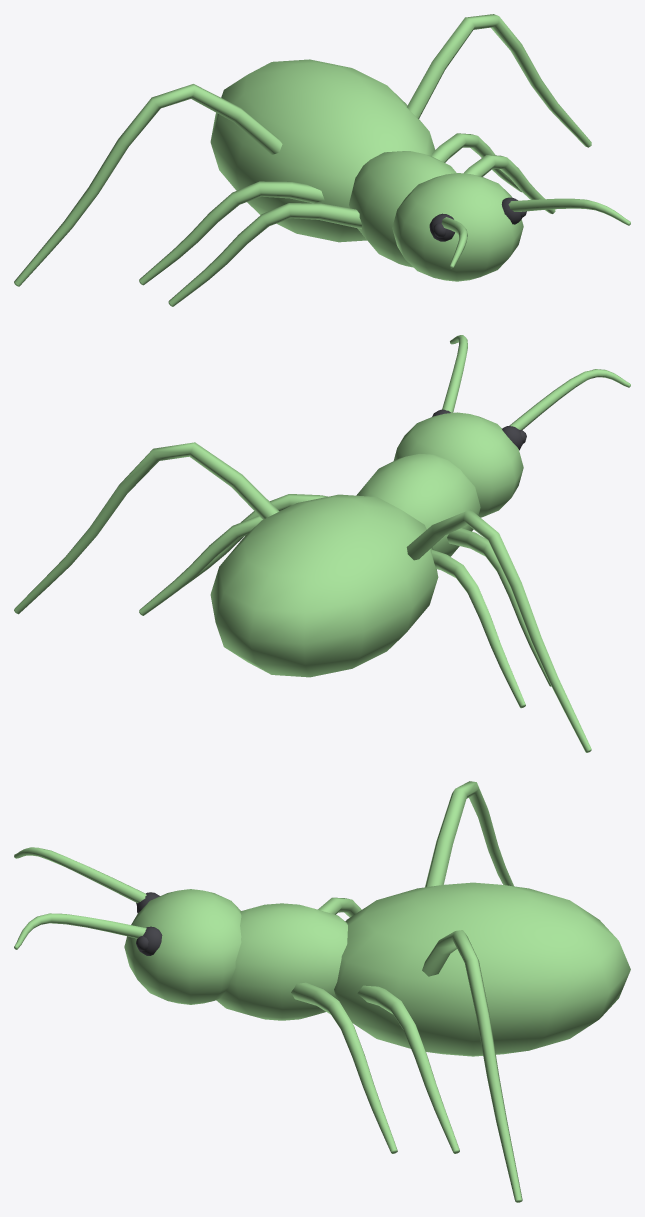
The model's file is reptiles-amphibians-and-minibeasts-grasshopper-de73bd92__22458.glb.
The picture shows the model from 3 angles, top to bottom: view 1: azimuth 30°, elevation 25°; view 2: azimuth 150°, elevation 25°; view 3: azimuth 270°, elevation 25°; orthographic projection. The views are drawn at different scales.
Visible parts, largest first — view 1: grasshopper; view 2: grasshopper; view 3: grasshopper.
Boxes of the visible parts, bbox=[...] form: grasshopper: bbox=[14, 14, 630, 306]; grasshopper: bbox=[14, 335, 630, 752]; grasshopper: bbox=[14, 781, 630, 1202].
Bounding box in the file's own units: 0.0685 × 0.021 × 0.06.
